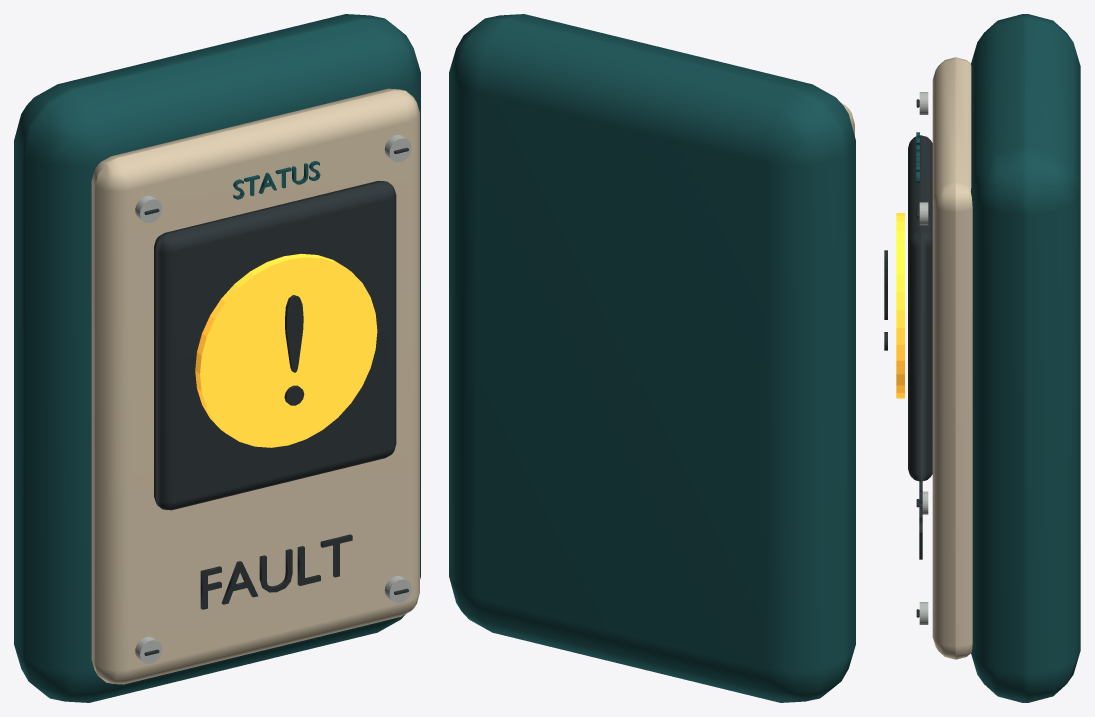
The model's file is status_amber_fault.glb.
The picture shows the model from 3 angles, left to right: view 1: azimuth 30°, elevation 25°; view 2: azimuth 150°, elevation 25°; view 3: azimuth 270°, elevation 25°; orthographic projection. The views are drawn at different scales.
Parts seen in each view (by area): view 1: status_amber_fault__Shell_Warm_Cream, status_amber_fault__Enamel_Teal, status_amber_fault__Rubber_Graphite, status_amber_fault__Status_Amber, status_amber_fault__Brushed_Hardware; view 2: status_amber_fault__Enamel_Teal; view 3: status_amber_fault__Enamel_Teal, status_amber_fault__Shell_Warm_Cream, status_amber_fault__Rubber_Graphite, status_amber_fault__Status_Amber, status_amber_fault__Brushed_Hardware.
Part boxes in pixels (<box>): status_amber_fault__Shell_Warm_Cream: <box>91,88,419,684</box>; status_amber_fault__Enamel_Teal: <box>14,14,420,702</box>; status_amber_fault__Rubber_Graphite: <box>144,147,408,655</box>; status_amber_fault__Status_Amber: <box>195,253,377,447</box>; status_amber_fault__Brushed_Hardware: <box>135,135,411,663</box>; status_amber_fault__Enamel_Teal: <box>449,14,855,702</box>; status_amber_fault__Enamel_Teal: <box>916,14,1080,702</box>; status_amber_fault__Shell_Warm_Cream: <box>932,57,972,659</box>; status_amber_fault__Rubber_Graphite: <box>884,99,932,617</box>; status_amber_fault__Status_Amber: <box>896,213,904,398</box>; status_amber_fault__Brushed_Hardware: <box>919,92,928,624</box>.
Size of the model in its own units: 0.14 by 0.21 by 0.0676.
